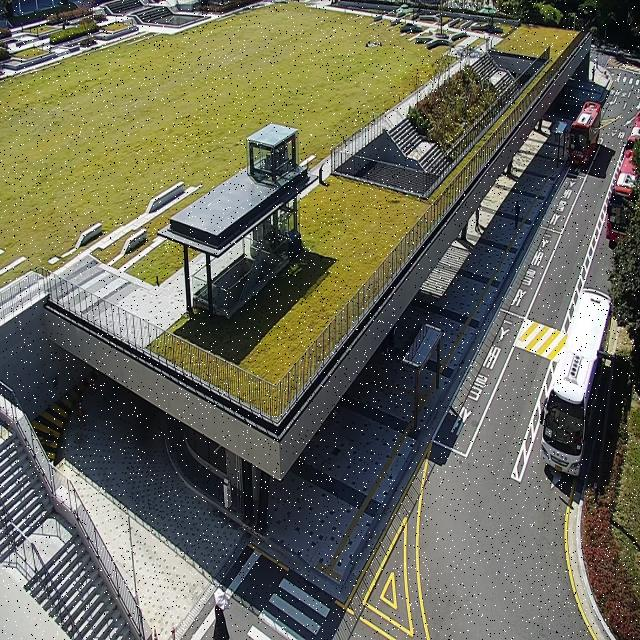queue: (416, 330, 441, 431)
